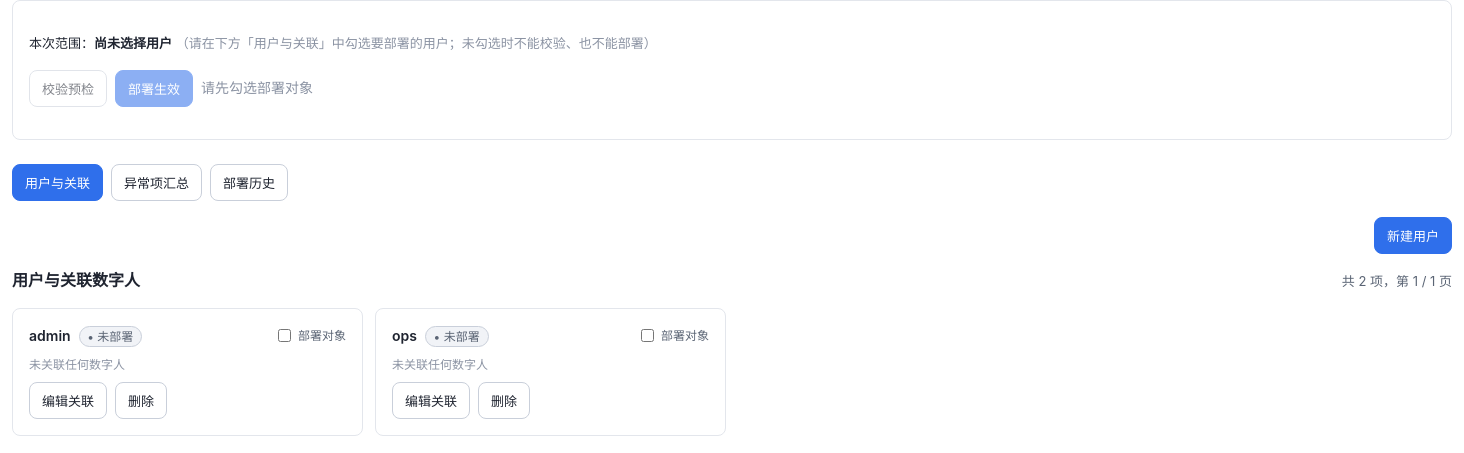
Test case: DeployArea —— 历史加载失败与勾选剪枝（2026-10-20） › 历史加载失败：切到历史分区显示错误，不显示"还没有部署记录"
Step 1. Click the button "部署历史" → [249, 182], box top-left (210, 164), bottom-right (288, 201)
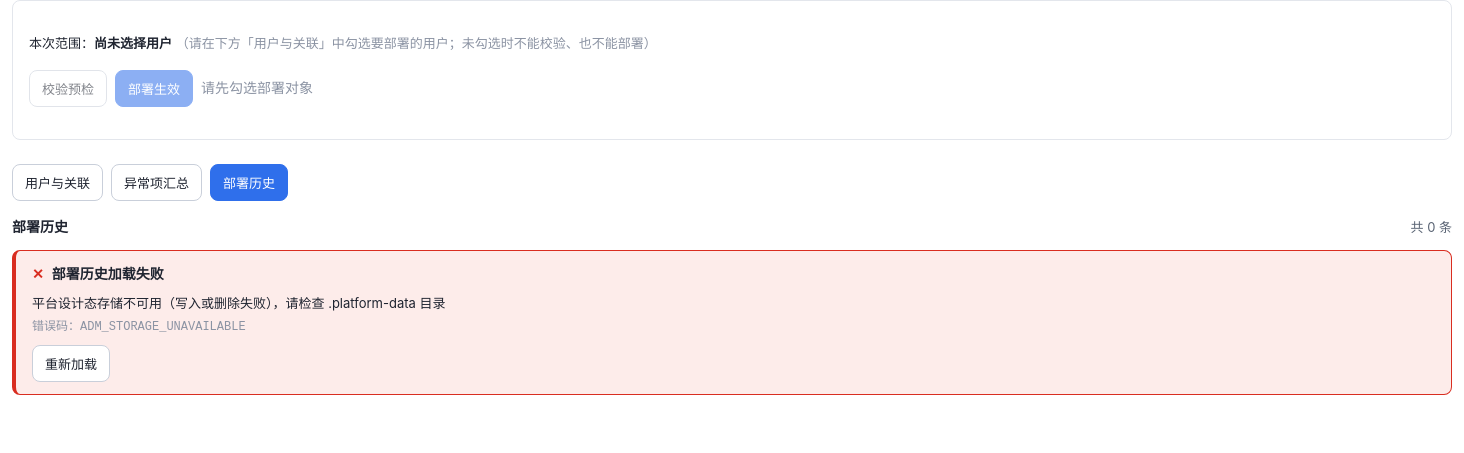
Check: the text "部署历史加载失败" is shown, box top-left (52, 263), bottom-right (164, 285)
